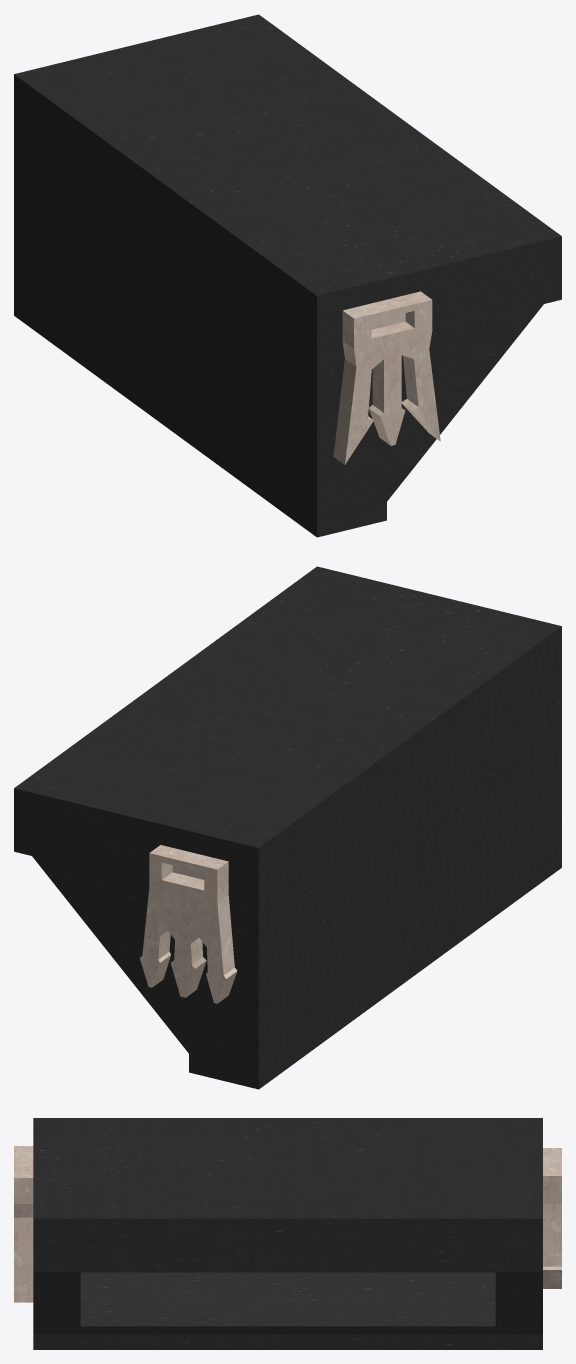
The model's file is trapdoorlockwbothkeyholes.glb.
3 renders of one model, top to bottom at view 1: azimuth 30°, elevation 25°; view 2: azimuth 150°, elevation 25°; view 3: azimuth 270°, elevation 25°, orthographic. The views are drawn at different scales.
Visible parts, largest first — view 1: Trident Keyhole; view 2: Trident Keyhole; view 3: Trident Keyhole.
Boxes of the visible parts, x1,y1,x2,y2 form: Trident Keyhole: [14, 14, 561, 537]; Trident Keyhole: [14, 566, 561, 1089]; Trident Keyhole: [14, 1118, 561, 1349].
Size of the model in its own units: 2.77 by 2.61 by 6.38.
2 materials, 2 textured.
